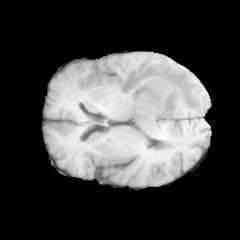glioma: (118, 63, 200, 139)
